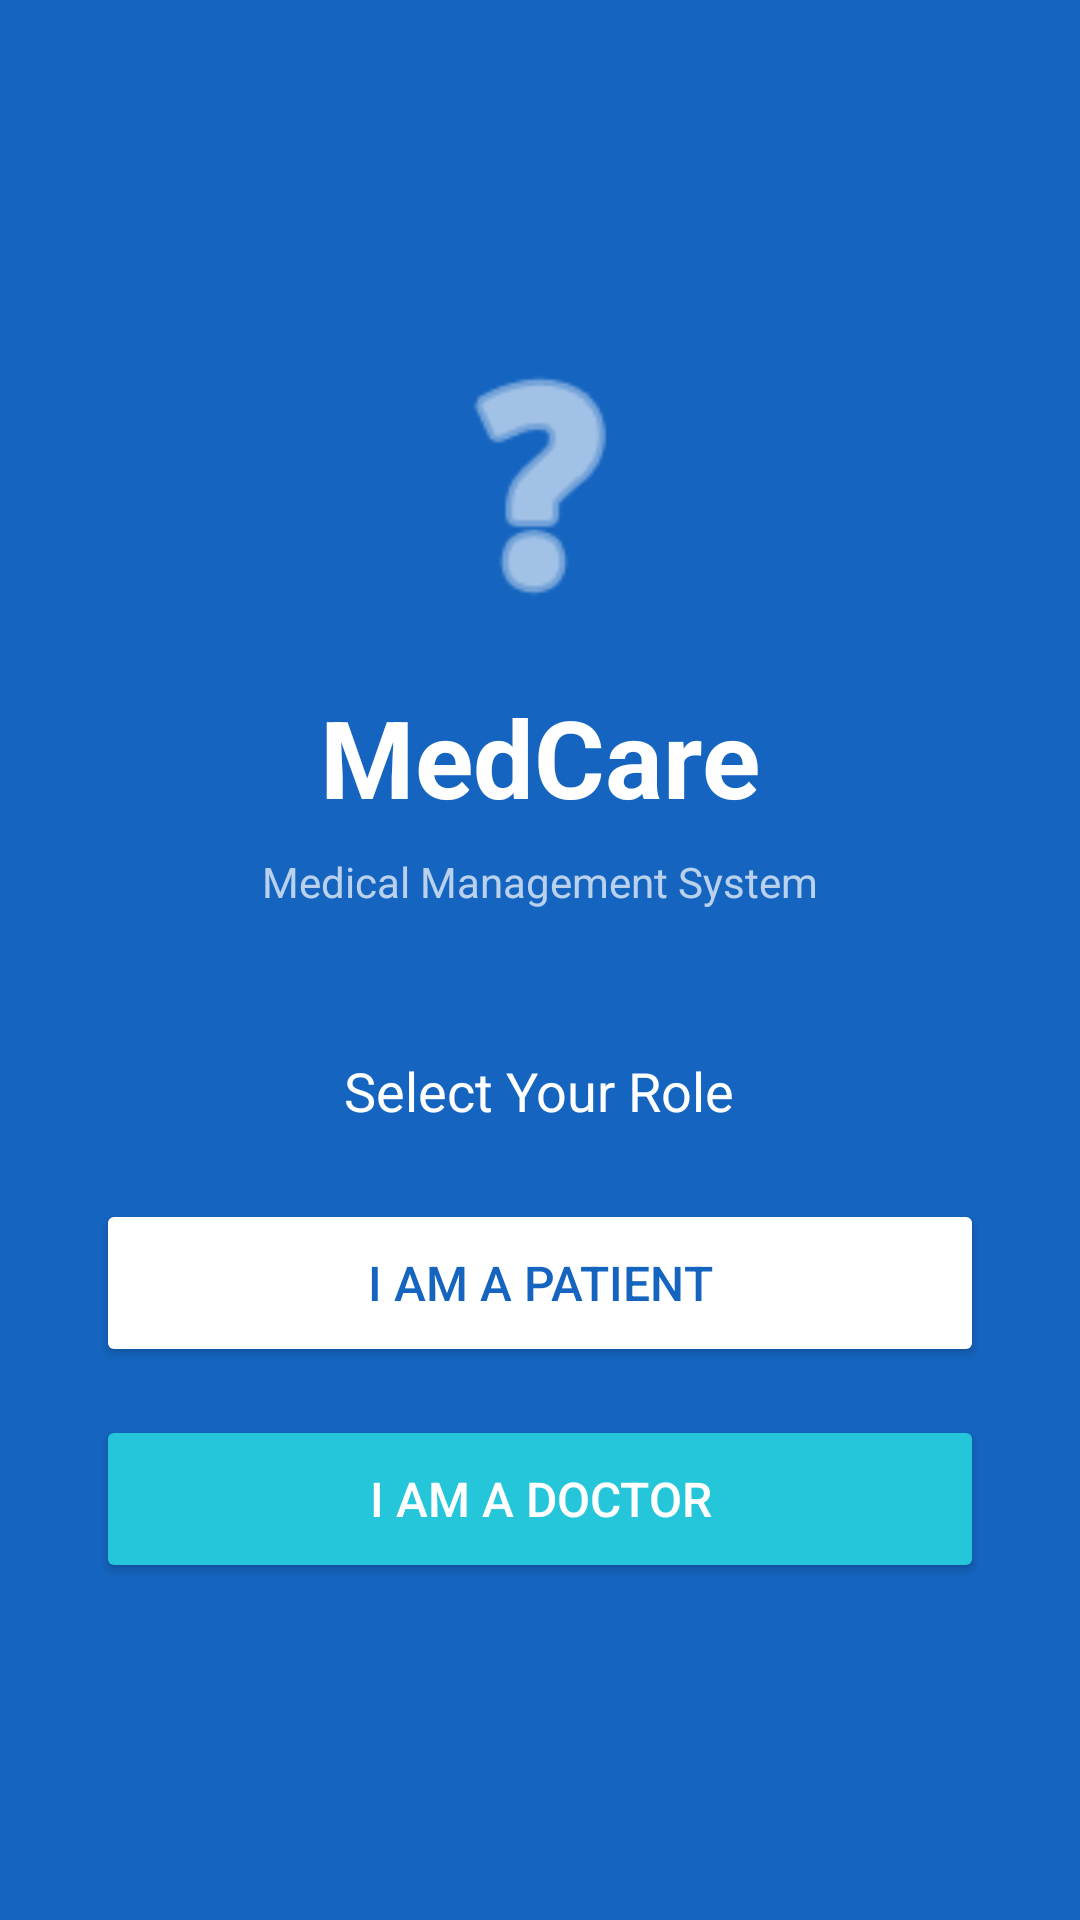

Where to tap for icons on this 1080px×1920px app screen, as [x,y]:
help: [540,486]
